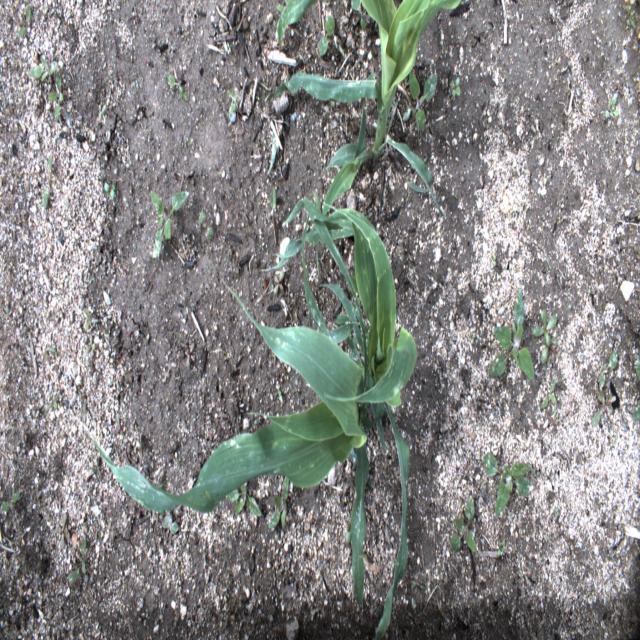crop: (78, 185, 417, 635), (268, 0, 462, 217), (276, 0, 316, 46)
weed: (488, 288, 535, 381), (481, 448, 536, 516), (150, 189, 192, 261), (403, 70, 437, 133), (592, 349, 618, 424), (448, 499, 478, 553), (532, 306, 558, 366), (225, 478, 262, 518), (267, 474, 292, 532), (317, 15, 348, 58), (66, 534, 86, 585), (46, 73, 64, 123), (29, 56, 60, 84), (167, 71, 189, 103), (198, 210, 216, 242), (56, 512, 71, 549), (540, 378, 556, 410), (43, 158, 53, 208), (604, 91, 620, 121), (17, 6, 31, 38), (0, 489, 21, 510), (84, 308, 99, 332), (227, 86, 237, 122), (625, 3, 636, 30), (268, 184, 278, 210), (451, 75, 461, 99), (85, 332, 96, 352), (49, 392, 58, 414), (634, 354, 640, 384), (104, 183, 115, 199), (633, 398, 640, 423), (497, 538, 505, 558), (277, 388, 284, 407), (50, 347, 58, 358)
